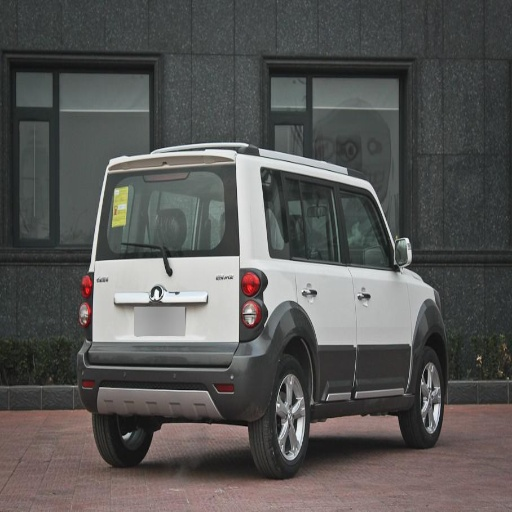back_bumper: (77, 331, 276, 418)
back_right_door: (278, 170, 357, 395)
trunk: (92, 259, 244, 363)
